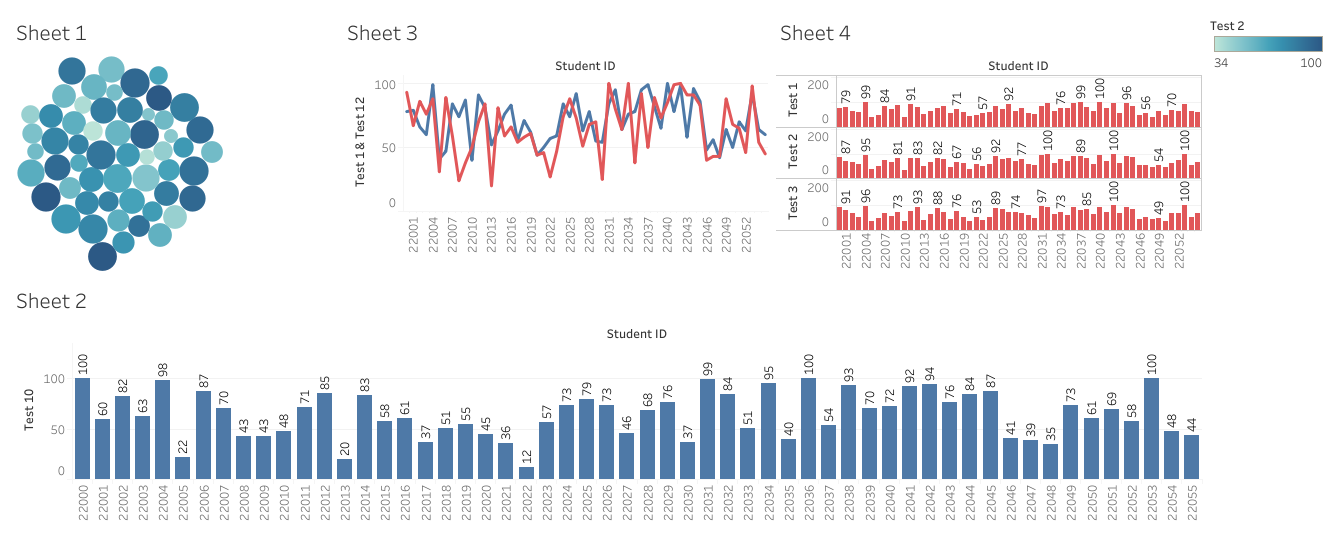

This screenshot's page, from the dashboard's own definition file:
{"tool":"tableau","page":{"name":"Dashboard 1","canvas":[1000,1000],"units":"permille","ordinal":0},"visuals":[{"type":"worksheet","title":"Sheet 1","mark":"Circle","box":[6.9,13.5,242.4,486.5]},{"type":"worksheet","title":"Sheet 3","mark":"Line","cols":["Student_ID"],"box":[249.3,13.5,317.7,486.5]},{"type":"worksheet","title":"Sheet 4","mark":"Automatic","rows":["Test_1","Test_2","Test_3"],"cols":["Student_ID"],"box":[567.1,13.5,317.8,486.5]},{"type":"legend","title":"Sheet 1","param":"[federated.1yvlncq0pr8tee18vslzr1ald63n].[sum:Test_2:qk]","box":[884.8,13.5,108.2,109.8]},{"type":"legend","title":"Sheet 1","param":"[federated.1yvlncq0pr8tee18vslzr1ald63n].[sum:Test_10:qk]","box":[884.8,123.3,108.2,37.2]},{"type":"legend","title":"Sheet 4","param":"[federated.1yvlncq0pr8tee18vslzr1ald63n].[:Measure Names]","box":[884.8,160.5,108.2,37.2]},{"type":"worksheet","title":"Sheet 2","mark":"Automatic","rows":["Test_10"],"cols":["Student_ID"],"box":[6.9,500,877.9,486.5]}]}

Visuals, with their boxes on the dashboard's canvas, which has no fixed pixel size, in thousandths of its width and height (x1, y1, x2, y2). These are canvas units, not pixel positions in the 1338x550 screenshot, which may show the page scaled, cropped or inside an application window:
"Sheet 1" worksheet (Circle marks): <bbox>7, 14, 249, 500</bbox>
"Sheet 3" worksheet (Line marks): <bbox>249, 14, 567, 500</bbox>
"Sheet 4" worksheet: <bbox>567, 14, 885, 500</bbox>
"Sheet 1" legend: <bbox>885, 14, 993, 123</bbox>
"Sheet 1" legend: <bbox>885, 123, 993, 160</bbox>
"Sheet 4" legend: <bbox>885, 160, 993, 198</bbox>
"Sheet 2" worksheet: <bbox>7, 500, 885, 986</bbox>
